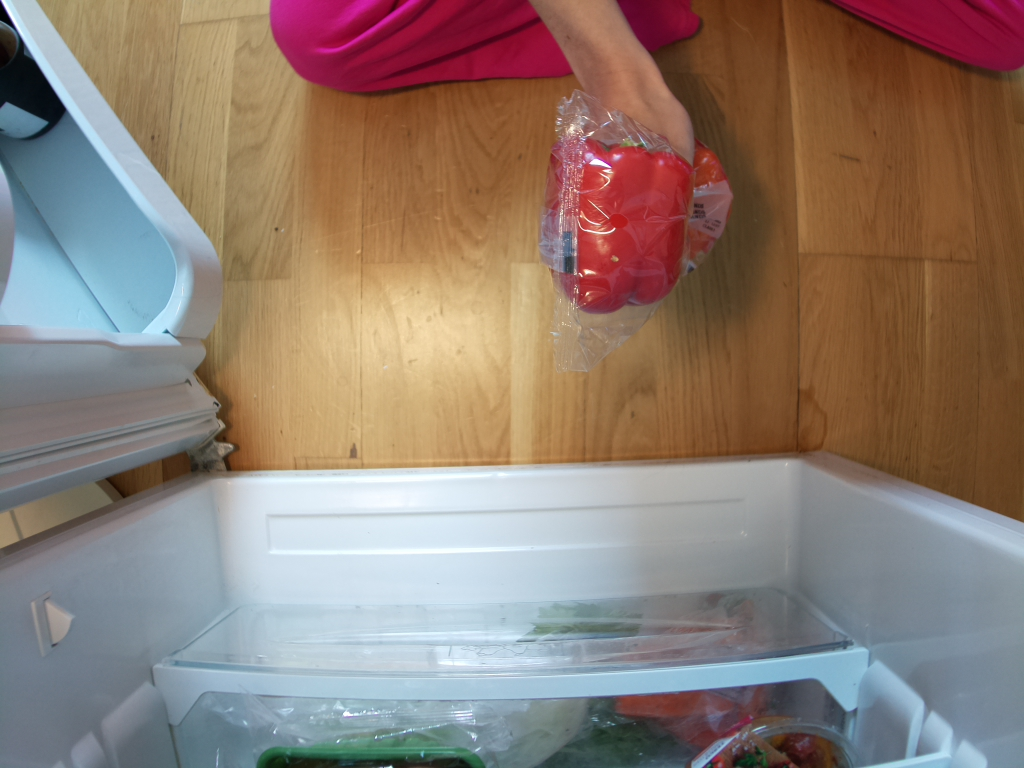pepper: (544, 137, 696, 315)
